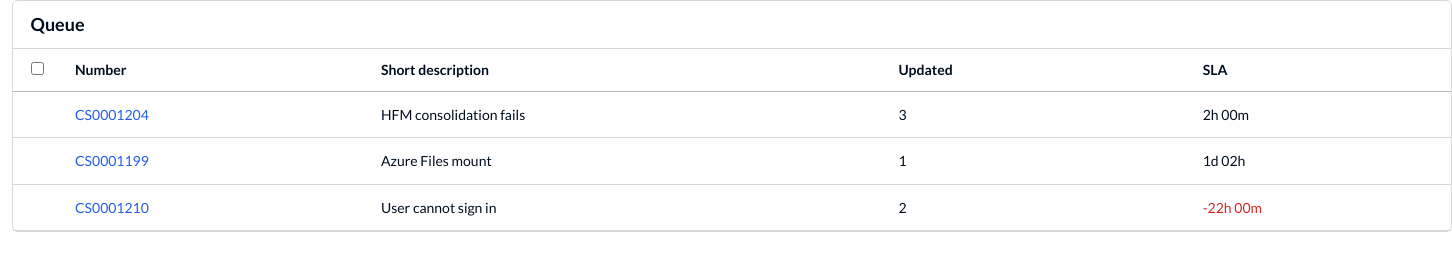
Test: DenseTable › selects all rows, shows the banner and clears on a second click
Click the checkbox named "Select all rows" at coordinates (37, 68), box [30, 62, 44, 75]
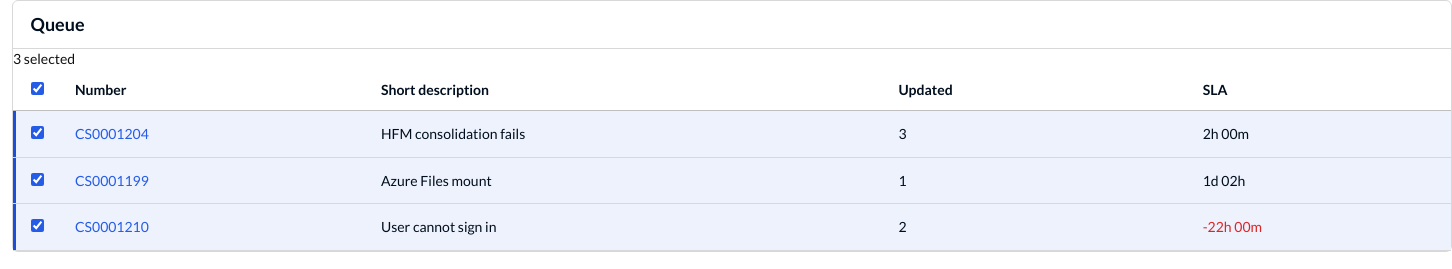
Check: the text with test id "banner" reads "3 selected", box [13, 50, 75, 67]
Click the checkbox named "Select all rows" at coordinates (37, 88), box [30, 82, 44, 95]
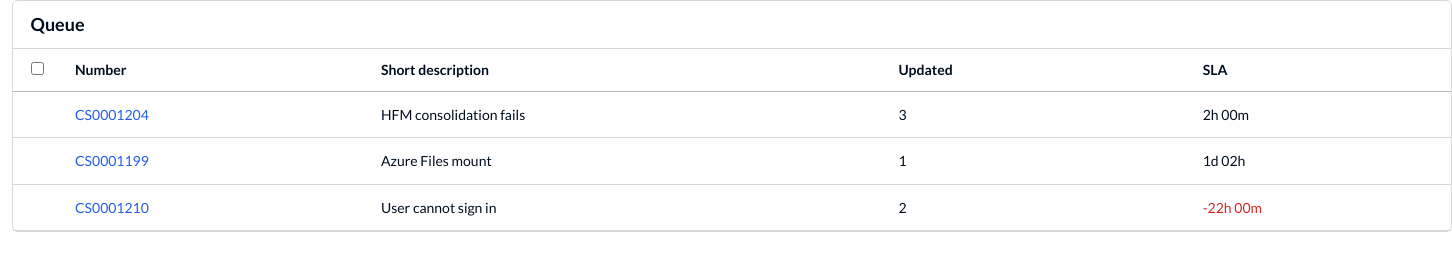
Check: the text with test id "banner" is gone
